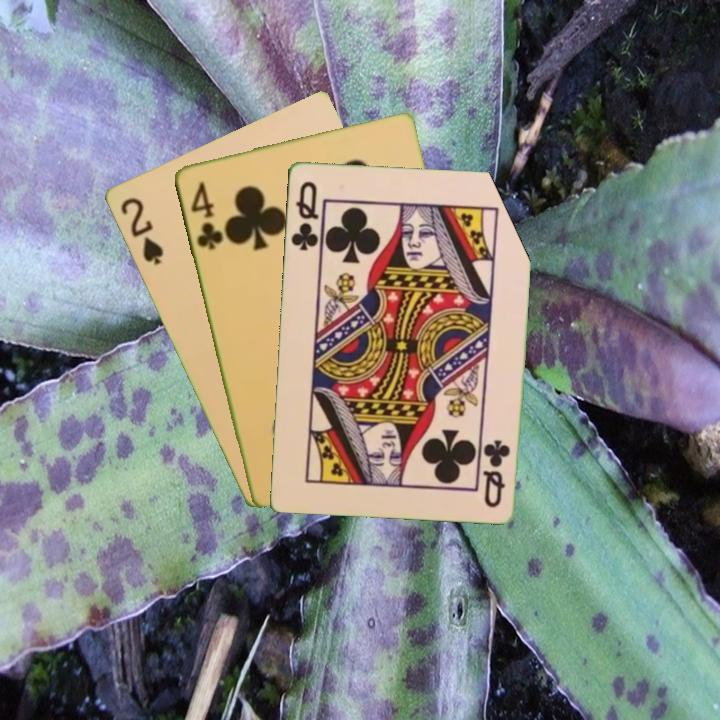2s: (116, 193, 166, 268)
4c: (186, 177, 226, 253)
Qc: (287, 177, 321, 253), (480, 435, 513, 510)
